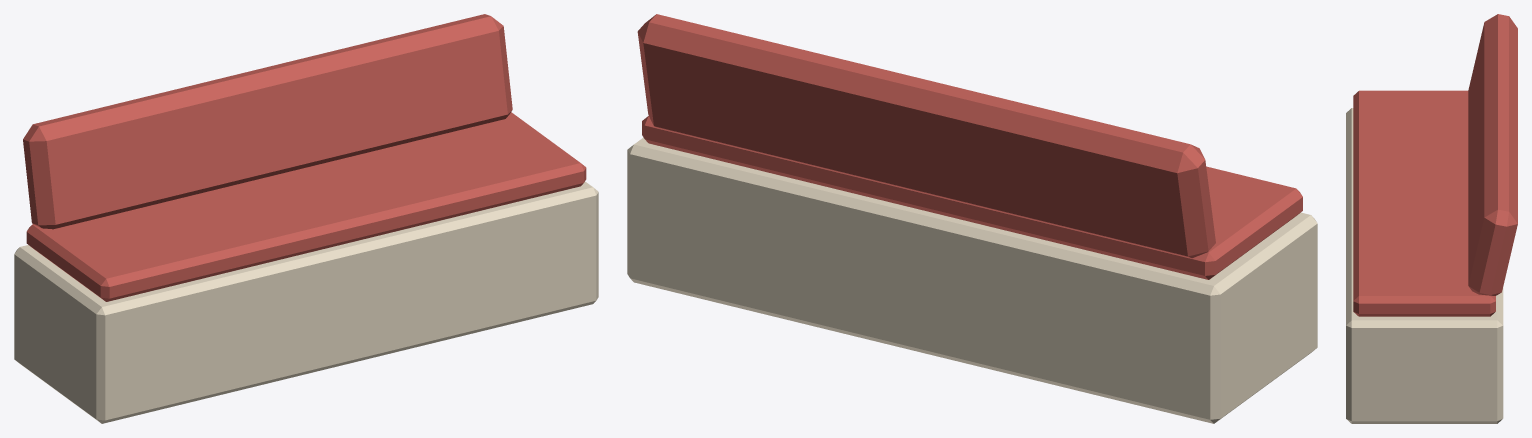
Rendered from sedir.glb.
The picture shows the model from 3 angles, left to right: view 1: azimuth 30°, elevation 25°; view 2: azimuth 150°, elevation 25°; view 3: azimuth 270°, elevation 25°; orthographic projection. The views are drawn at different scales.
Visible parts, largest first — view 1: sedir; view 2: sedir; view 3: sedir.
Boxes of the visible parts, x1=… form: sedir: x1=14, y1=14, x2=598, y2=423; sedir: x1=627, y1=14, x2=1317, y2=423; sedir: x1=1346, y1=14, x2=1517, y2=423.
Size of the model in its own units: 1.8 by 0.7953 by 0.6018.
